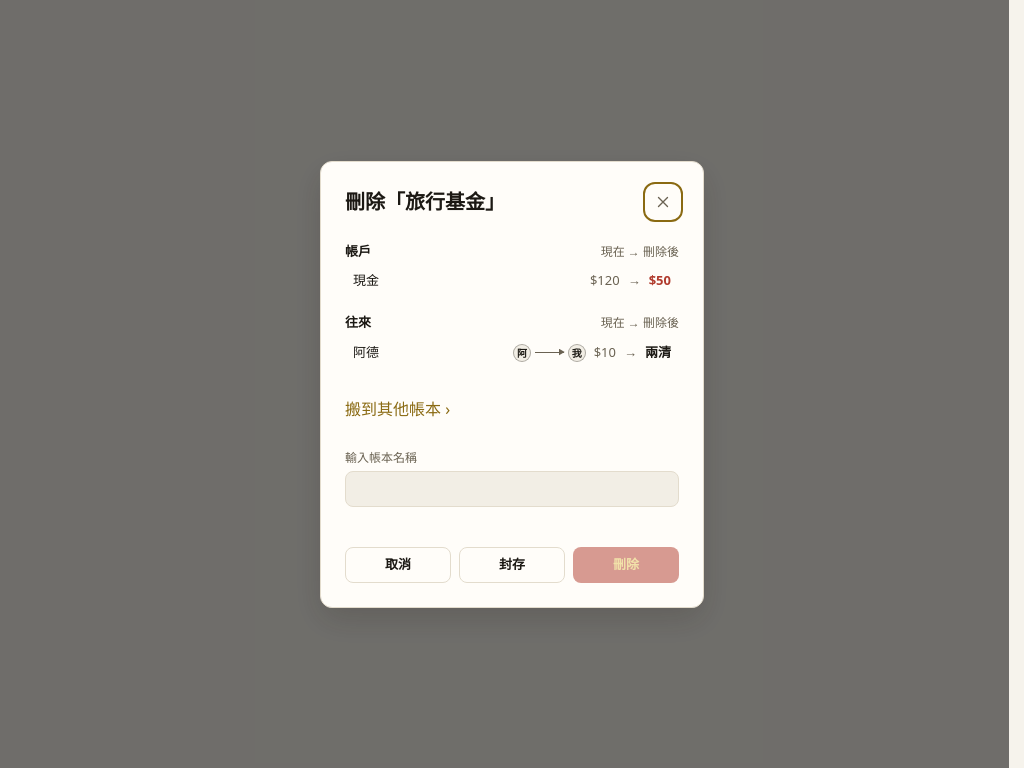
DeleteLedgerDialog › only displays the newest preview after rapid move changes
The image size is (1024, 768).
Expected: the text "$50" is shown, [649,271,671,291]
Click the button "搬到其他帳本 ›".
click(398, 408)  # box [345,392,450,424]
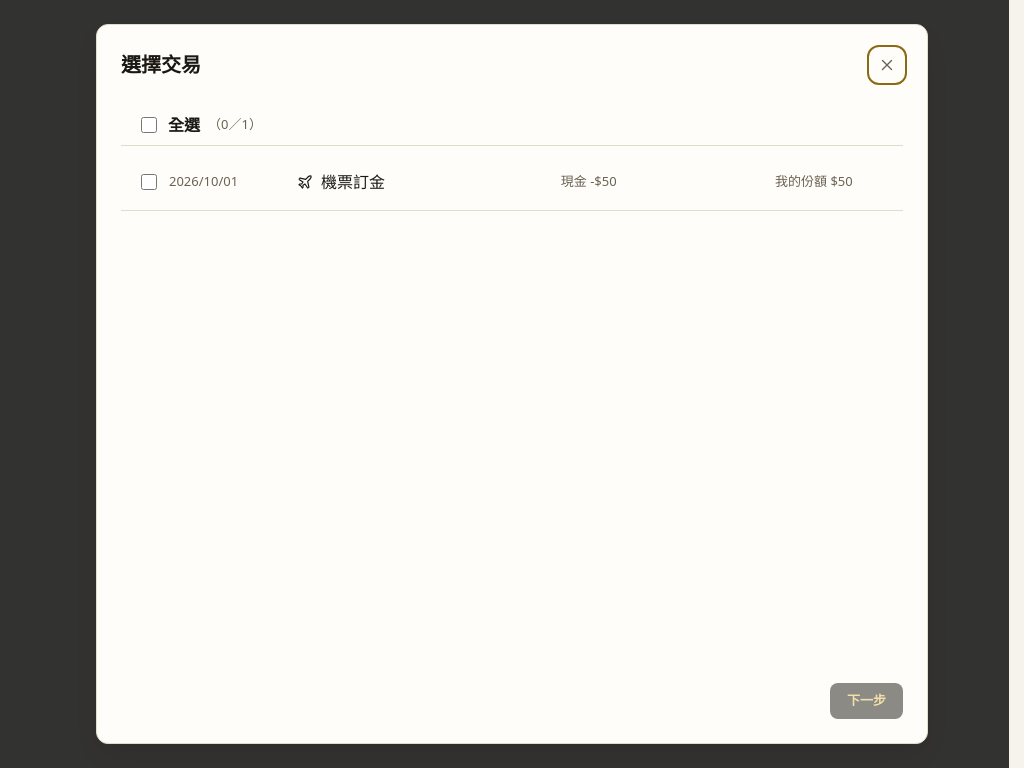
Click the checkbox labelled "2026/10/01 機票訂金 現金 -$50 我的份額 $50".
click(149, 182)  # box [141,174,157,190]
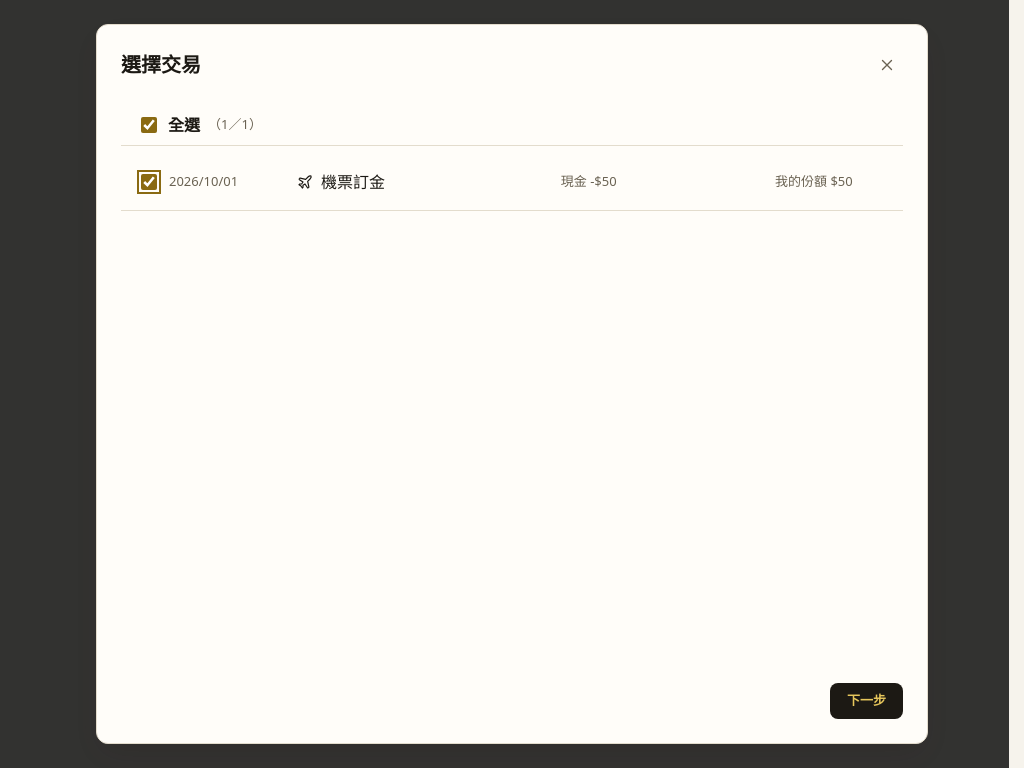
Click the button "下一步".
click(866, 701)  # box [830,683,903,719]
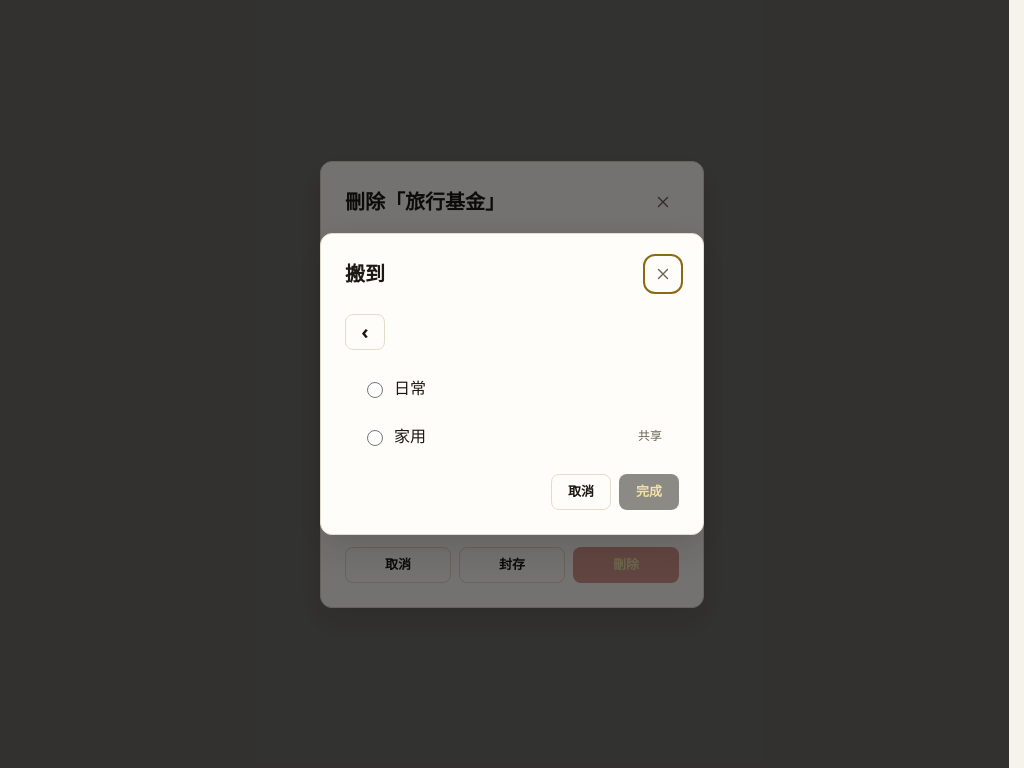
Click the radio button labelled "日常".
click(375, 390)  # box [367,382,383,398]
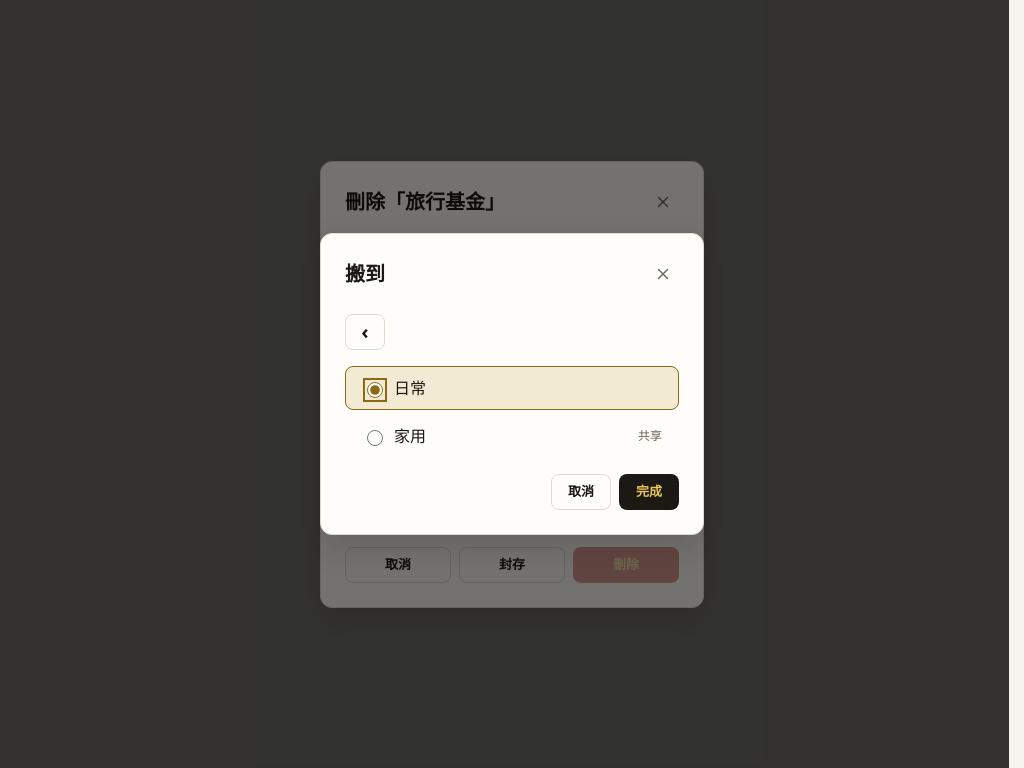
Click the button "完成".
click(649, 492)  # box [619,474,679,510]
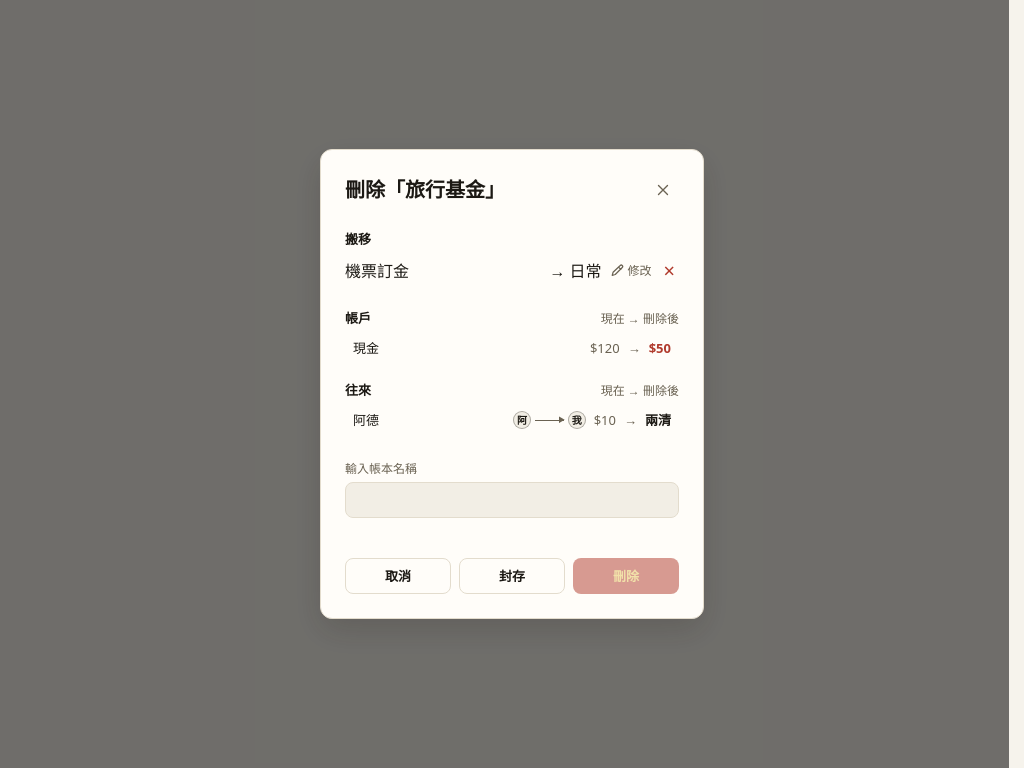
Click the button named "取消搬移到 日常".
click(669, 271)  # box [660,257,679,285]
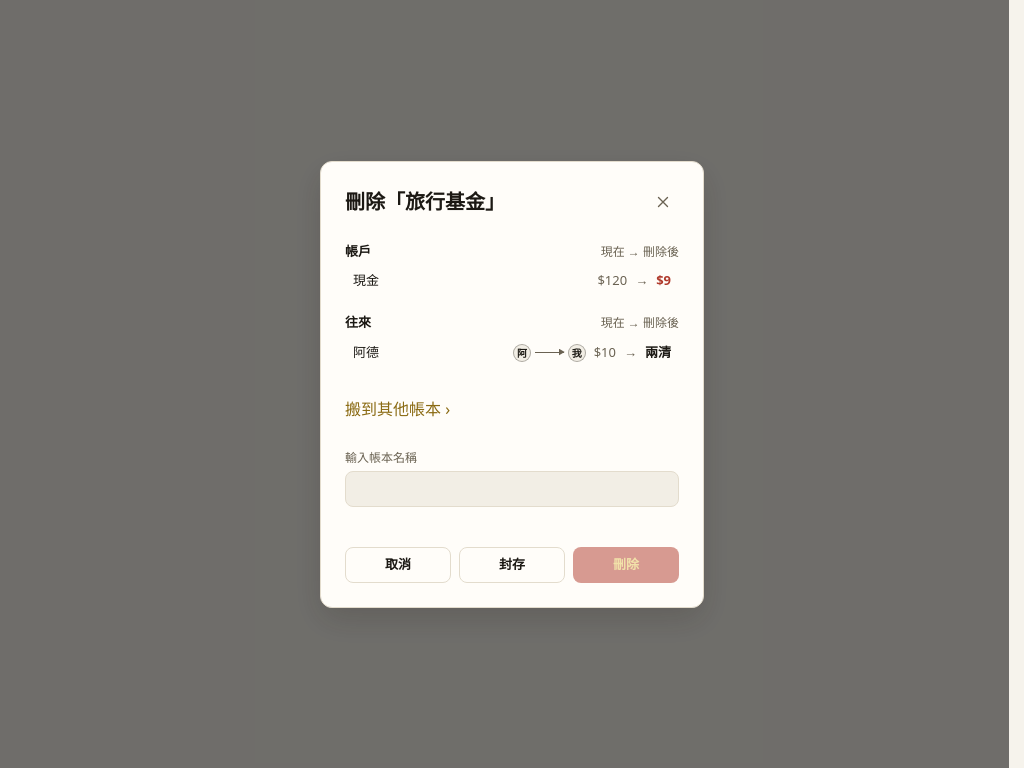
Expected: the text "$9" is shown, [656,271,671,291]
